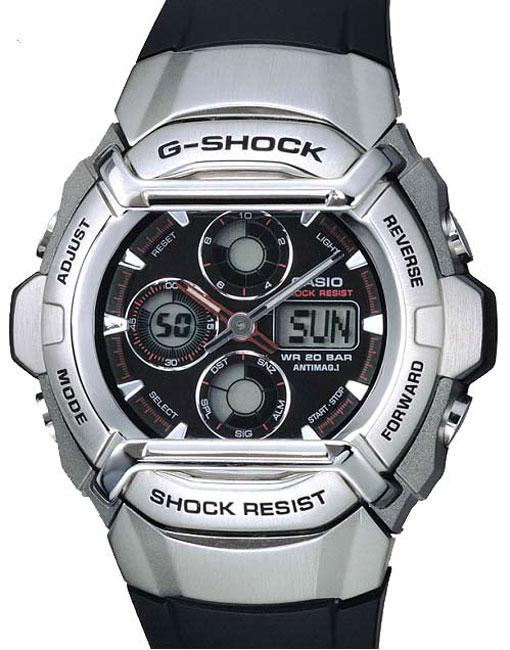watch: (13, 0, 499, 650)
